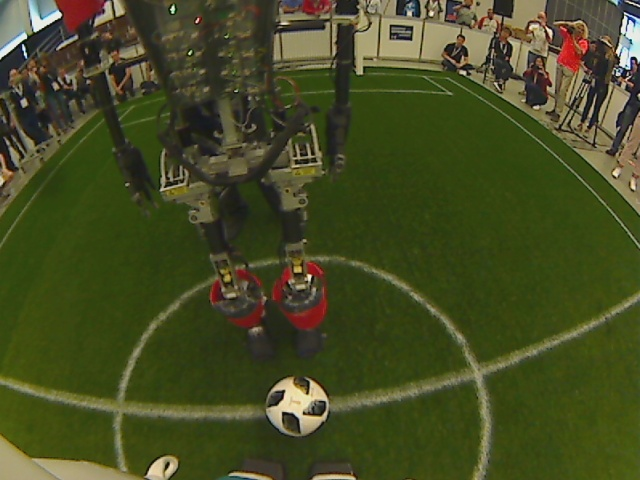ball: (262, 371, 332, 441)
goalpost: (345, 57, 373, 87)
robot: (239, 304, 337, 368)
